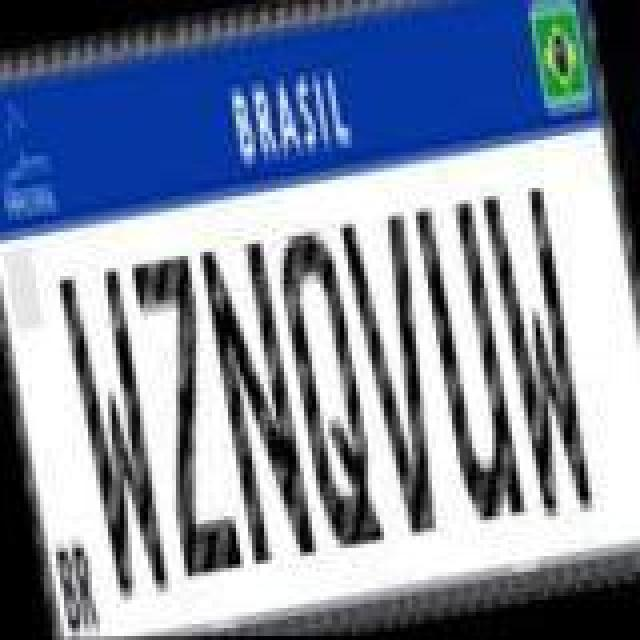N: (194, 238, 318, 574)
Q: (270, 222, 386, 554)
U: (414, 194, 530, 530)
V: (338, 206, 462, 538)
W: (54, 262, 178, 606), (480, 184, 600, 524)
Z: (126, 248, 242, 580)
